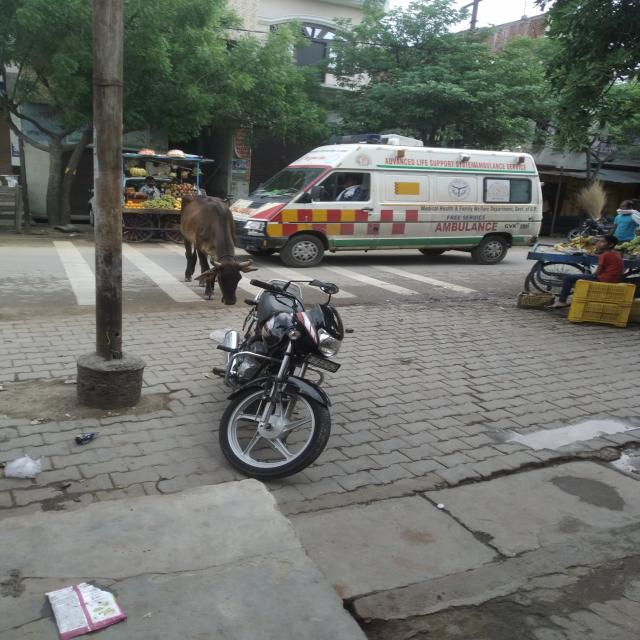Bike: (220, 276, 352, 483)
Bus: (242, 130, 555, 257)
